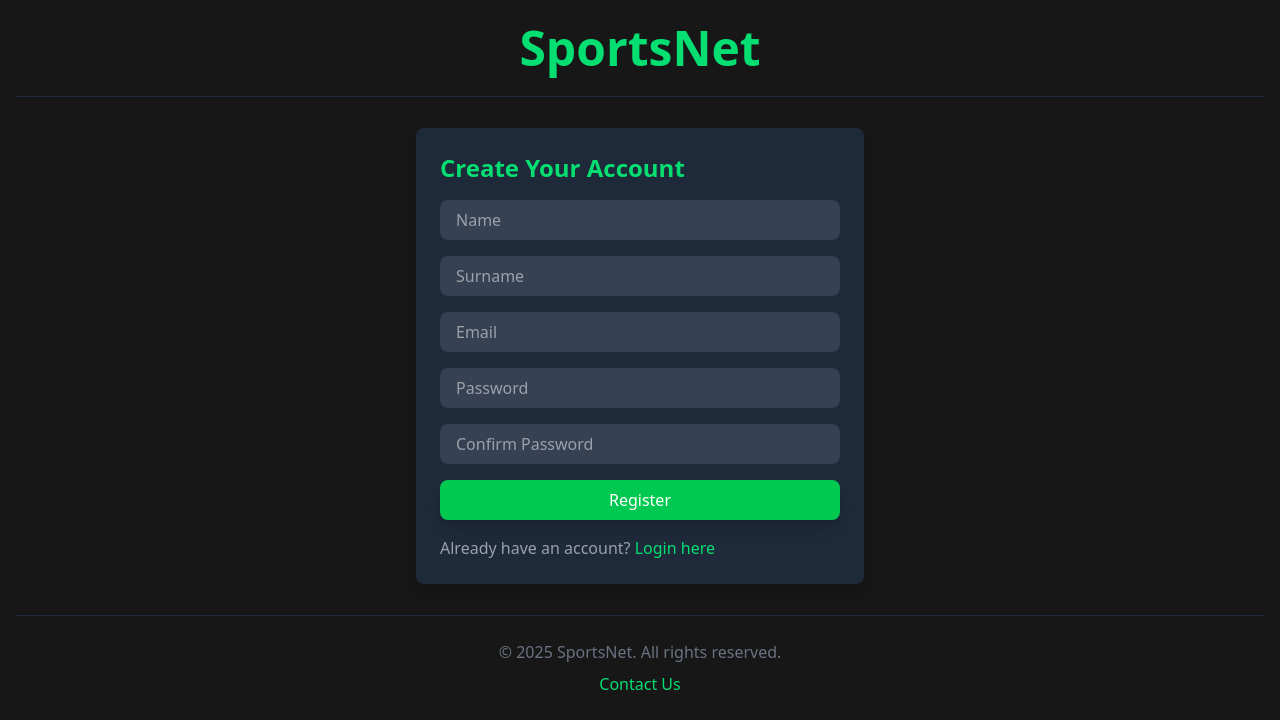
Test: RegisterPage Component › Form Submission › displays generic error message for network errors
What coordinates should you click on to do the following:
click the button "Register"
I would click on:
 (640, 500)
Its box is top-left (440, 480), bottom-right (840, 520).
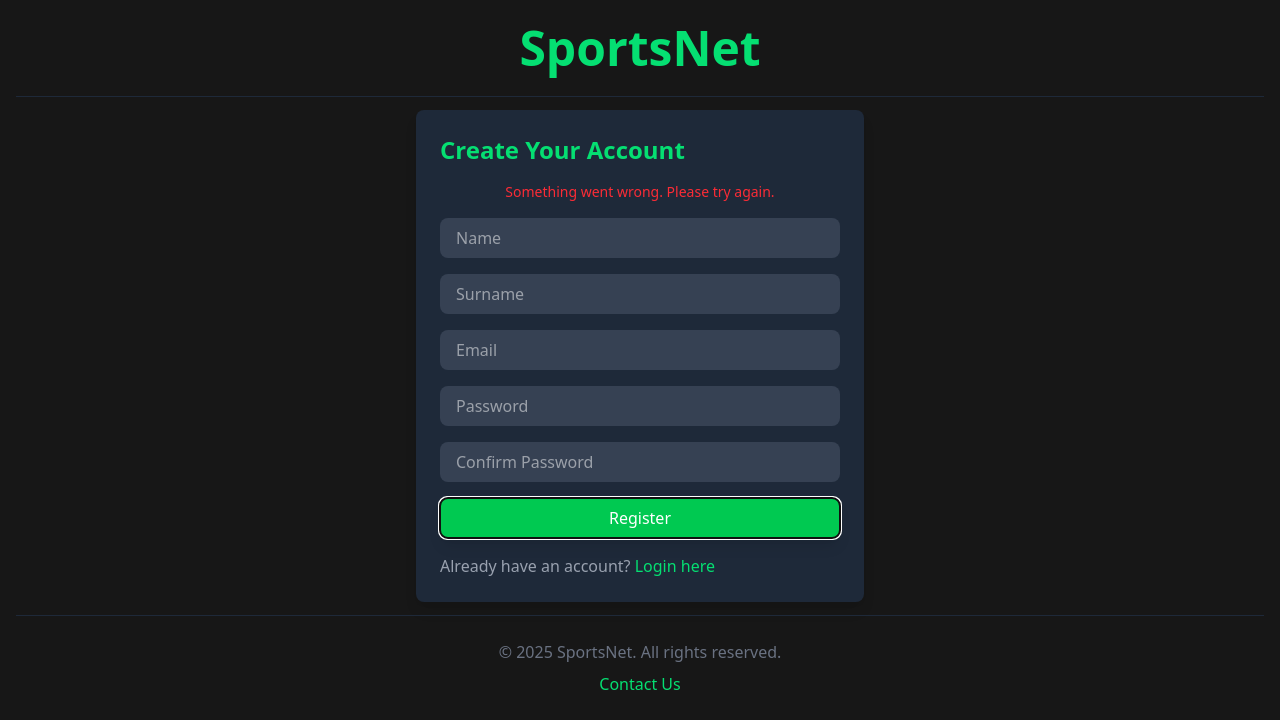
Check: the text "Something went wrong. Please try again." is shown, box top-left (505, 182), bottom-right (775, 201)
